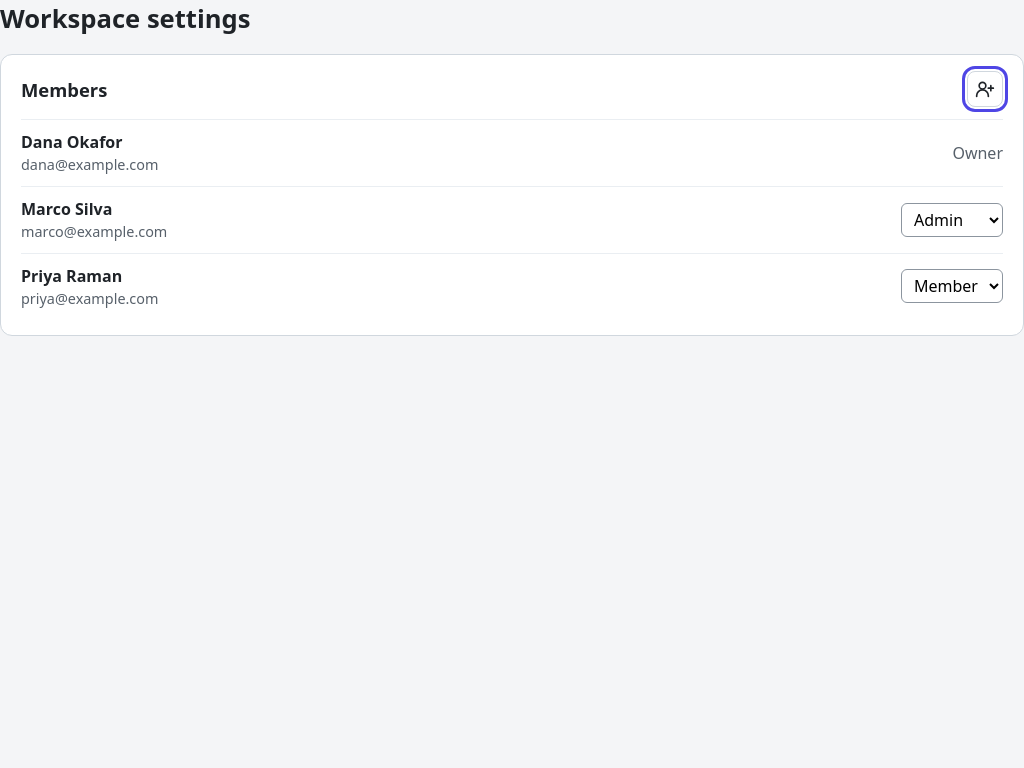
Scenario: BEFORE: documented failures › the success message is not in a live region
The image size is (1024, 768).
Press Enter
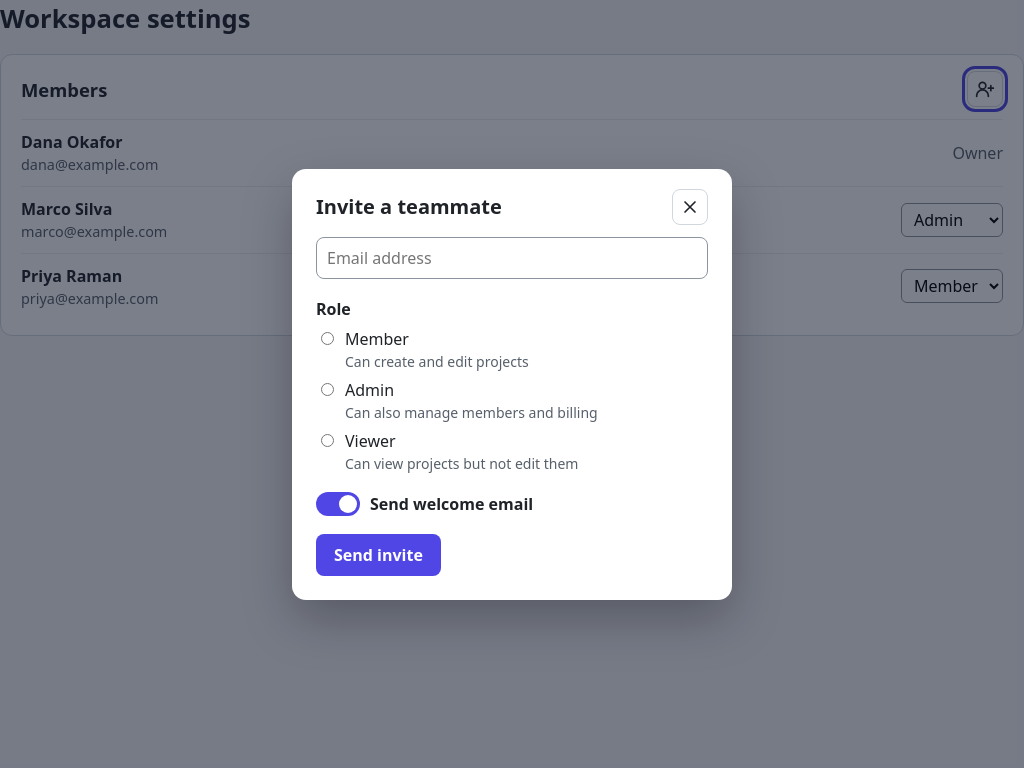
Type "sam@example.com" into the field with placeholder "Email address".
click(512, 258); type("sam@example.com")  # box x1=316 y1=236 x2=708 y2=278
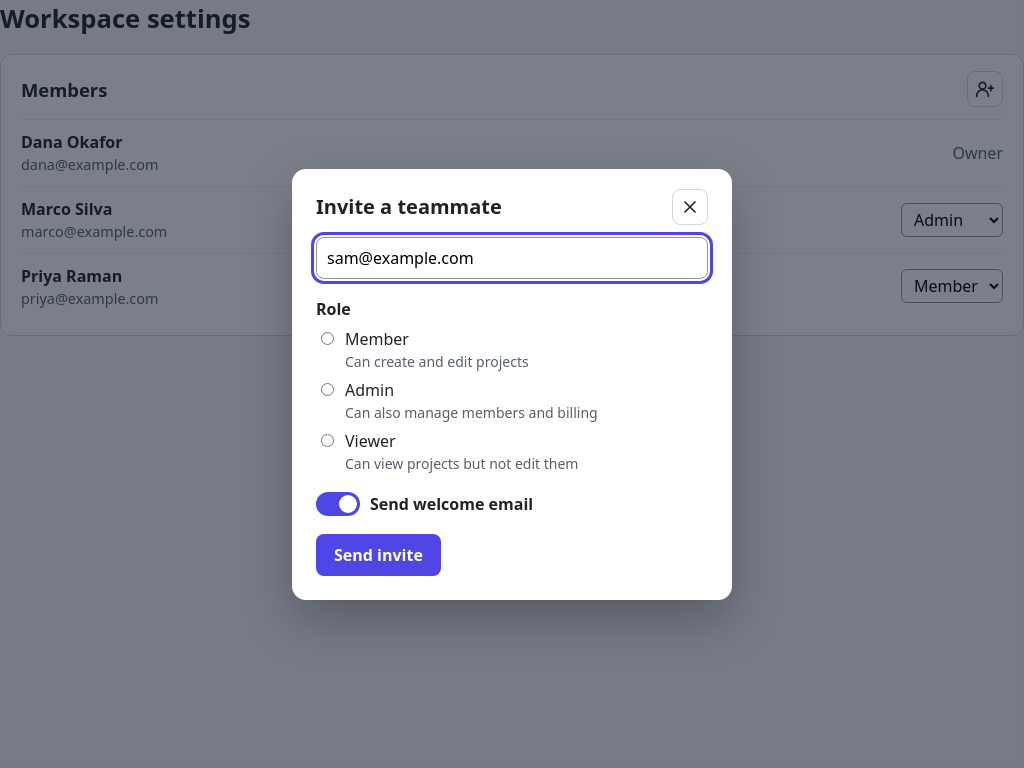
Click the radio button next to "Admin".
click(328, 389)  # box x1=321 y1=382 x2=334 y2=396
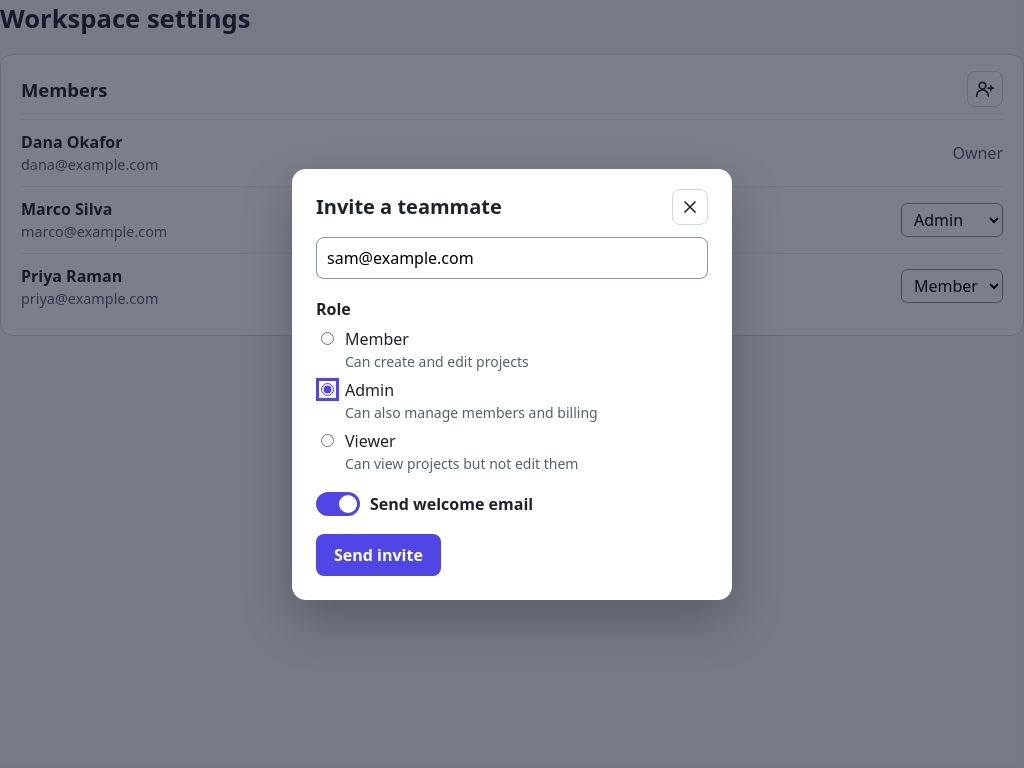
Click the button "Send invite".
click(378, 554)  # box x1=316 y1=534 x2=441 y2=576
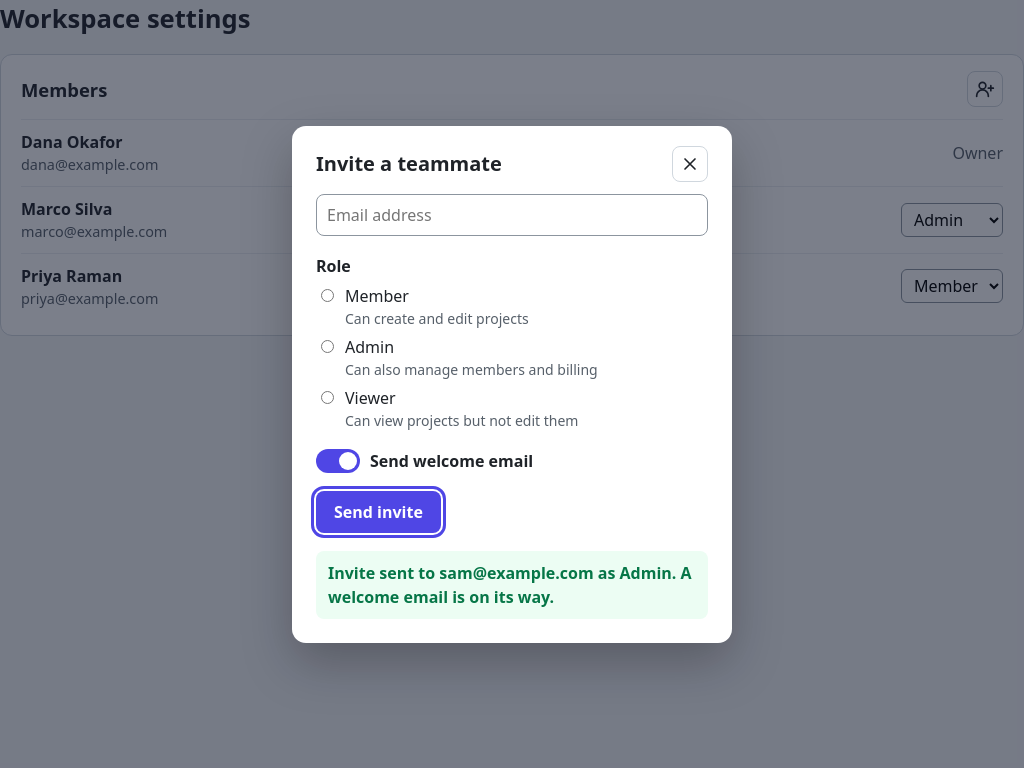
Now the text "Invite sent to sam@example.com as Admin" is shown, box x1=328 y1=562 x2=692 y2=608
